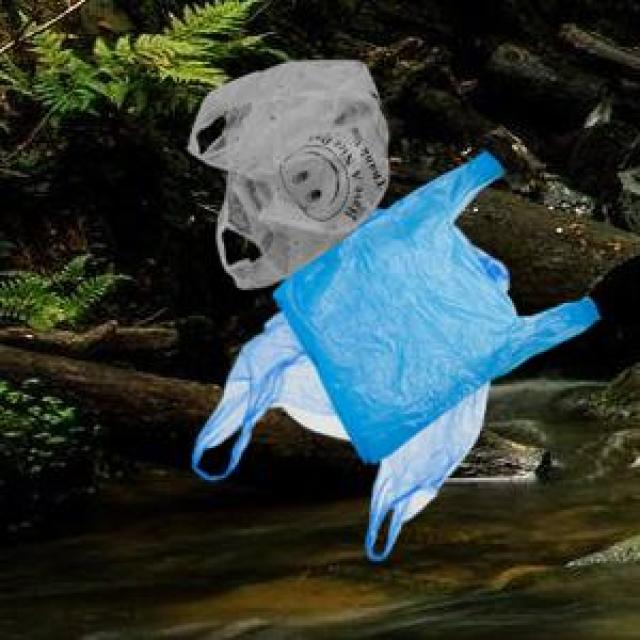plastic: (155, 54, 602, 557)
